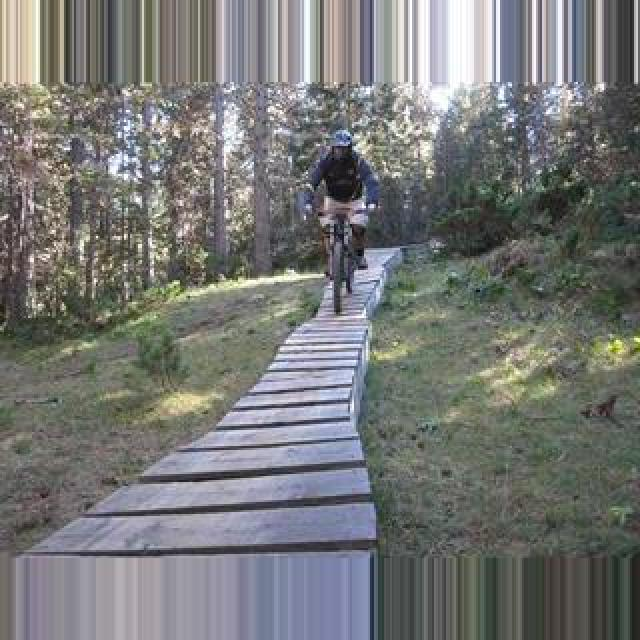MC-Bike: (300, 128, 380, 290)
Person: (305, 200, 371, 312)
